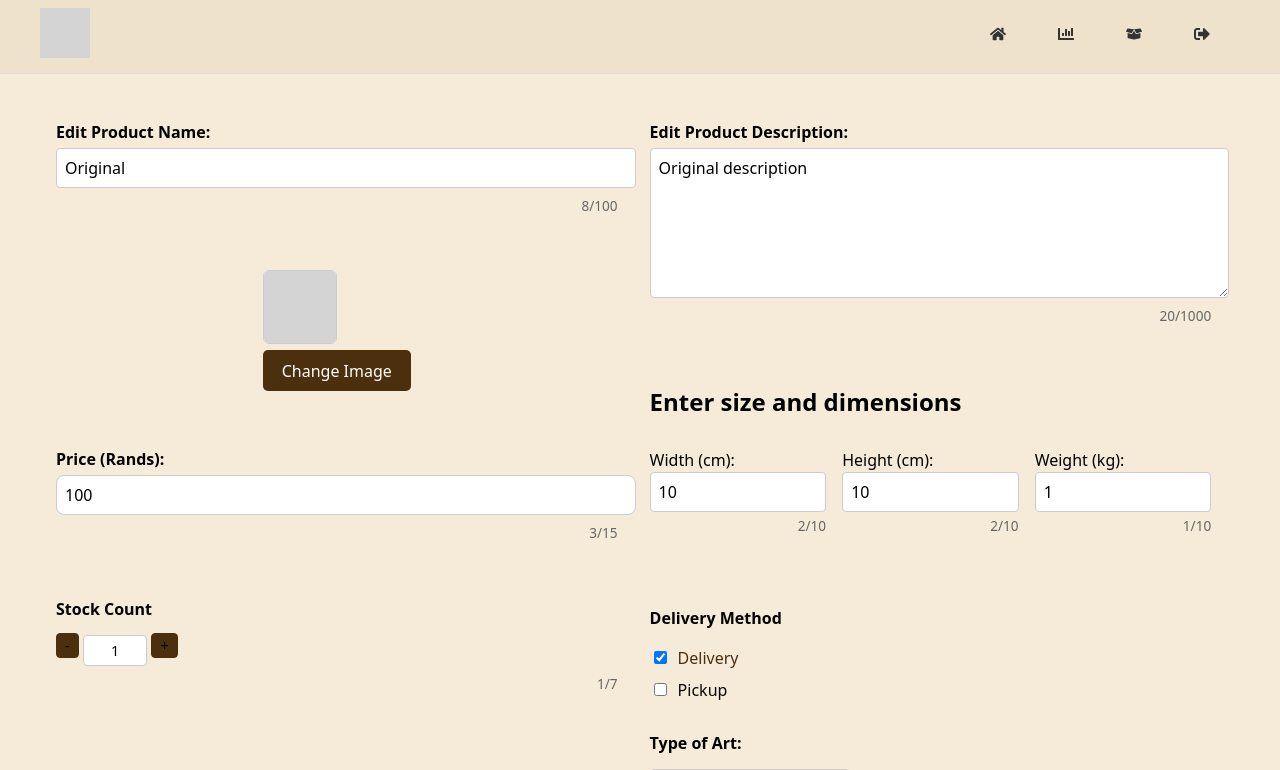
EditProductPage Functional Tests › stock increment (+) increases quantity
Expected: the field labelled "Edit Product Name:" is shown, [56,148,636,188]
Step 1. Click the button named "Increase stock" → coordinates (164, 646), box [151,633,178,658]
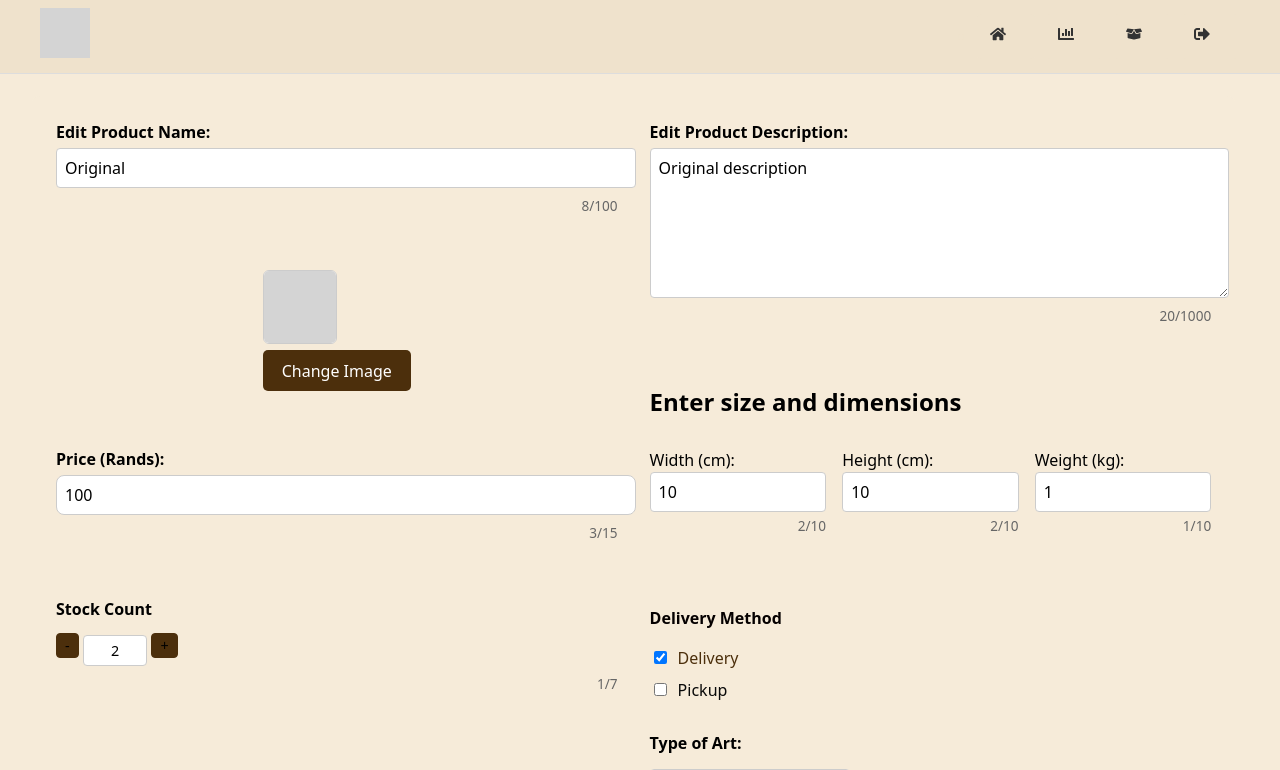
Expected: the field labelled "Stock Count" holds "2", [83,635,147,666]
